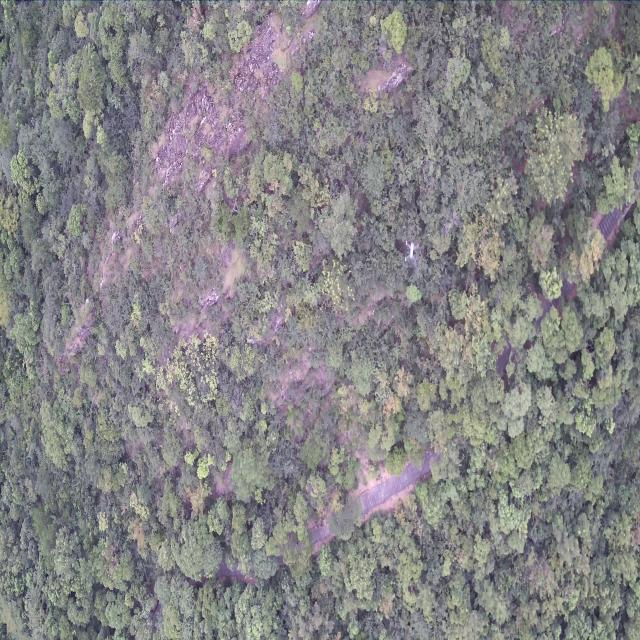UAV: (404, 239, 420, 264)
